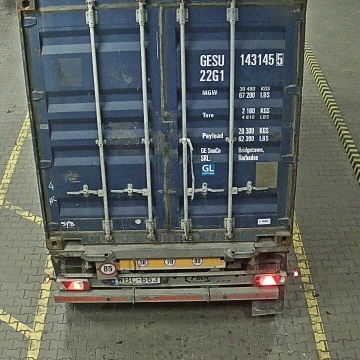serial_id: (200, 53, 283, 66)
